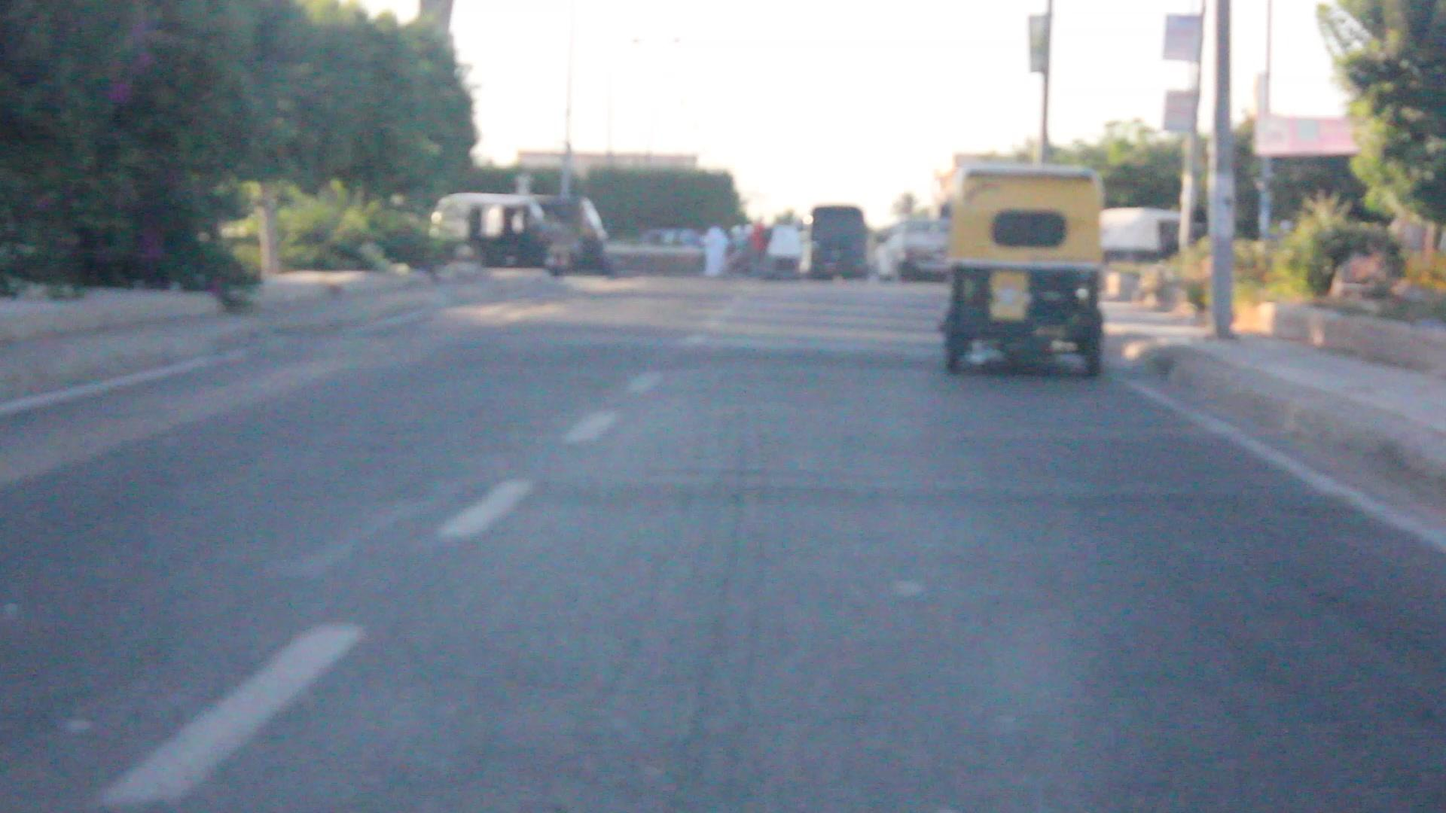Bump: (246, 335, 947, 370)
